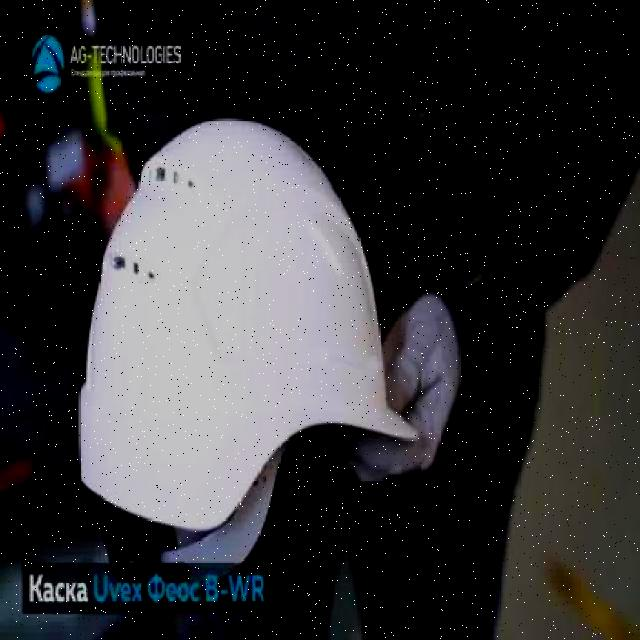Gloves: (309, 292, 457, 488)
Helmet: (74, 111, 420, 540)
